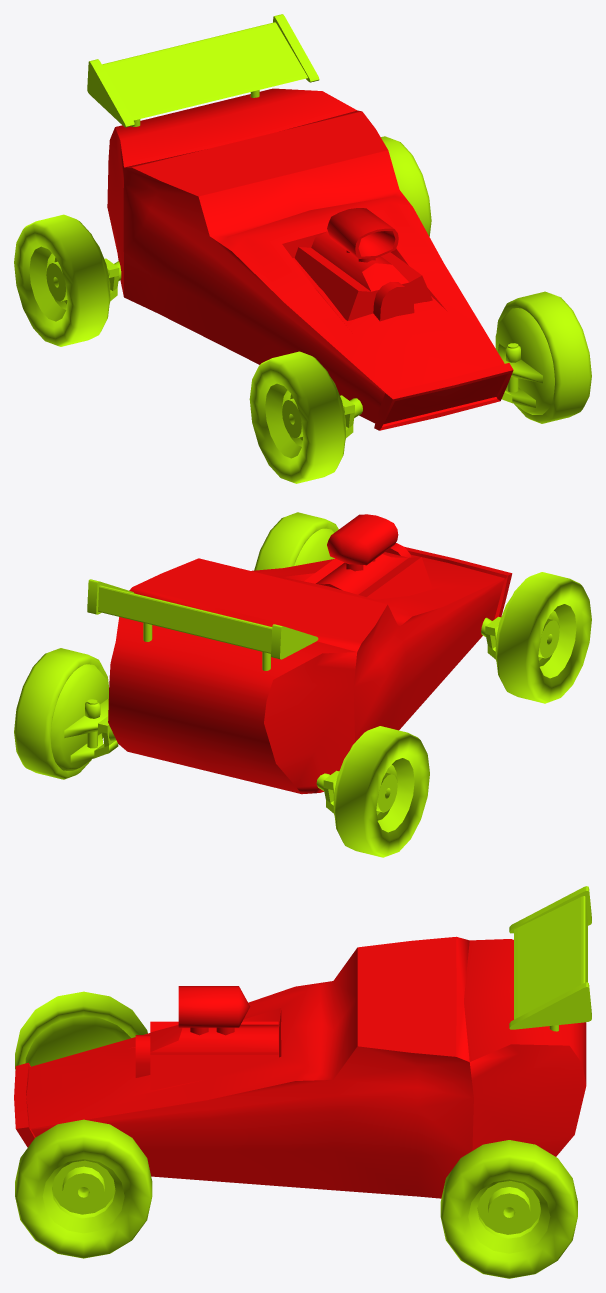
File: Toreto.FBX
3 views of the same model, one above another, from view 1: azimuth 30°, elevation 25°; view 2: azimuth 150°, elevation 25°; view 3: azimuth 270°, elevation 25° (orthographic). The views are drawn at different scales.
Visible parts, largest first — view 1: Carroceria, ToretoWheels001; view 2: Carroceria, ToretoWheels001; view 3: Carroceria, ToretoWheels001.
Boxes of the visible parts, left/top/right/bottom form: Carroceria: left=107, top=88, right=513, bottom=430; ToretoWheels001: left=14, top=14, right=591, bottom=483; Carroceria: left=108, top=514, right=512, bottom=794; ToretoWheels001: left=14, top=512, right=591, bottom=857; Carroceria: left=14, top=936, right=586, bottom=1198; ToretoWheels001: left=15, top=886, right=591, bottom=1278.
Size of the model in its own units: 58.83 by 37.14 by 77.4.
